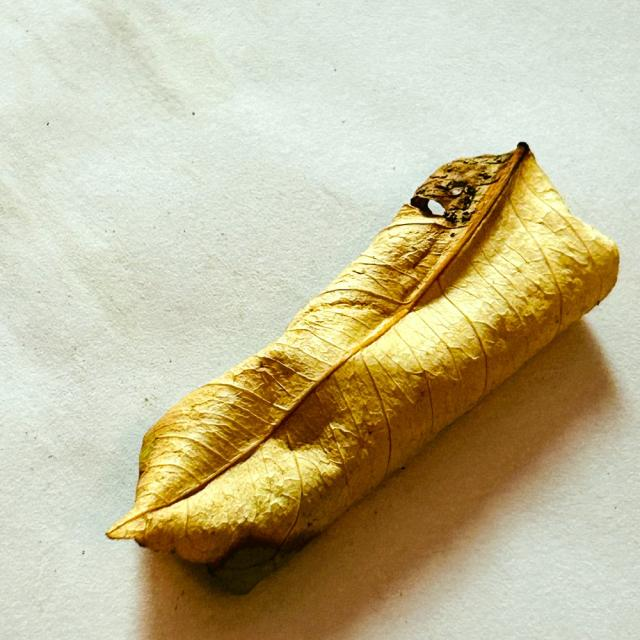DryLeaf_Lemon: (107, 143, 618, 592)
